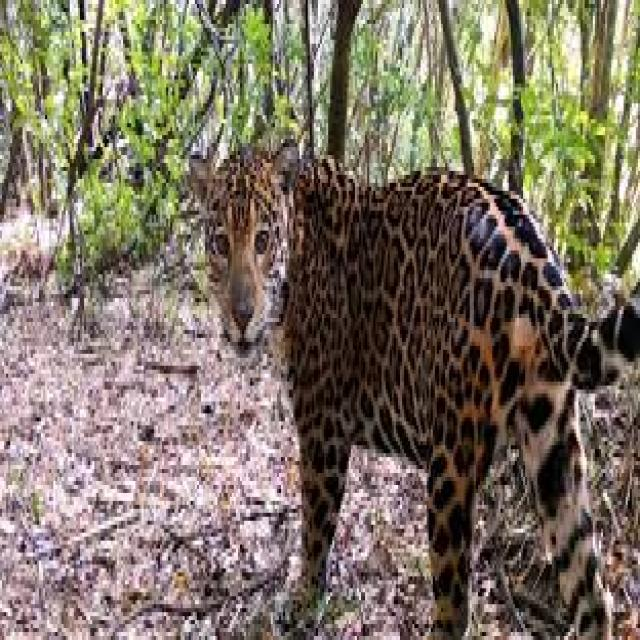Jaguar: (188, 123, 630, 640)
